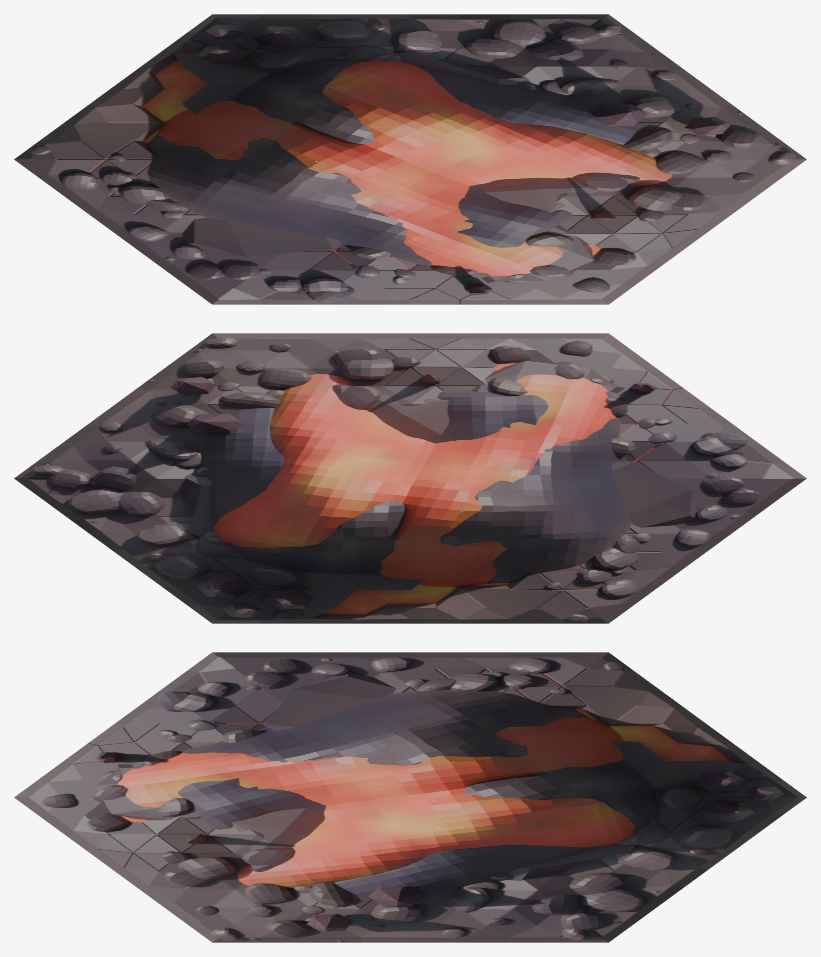
The model's file is scorchedVolcano.glb.
The picture shows the model from 3 angles, top to bottom: view 1: azimuth 30°, elevation 25°; view 2: azimuth 150°, elevation 25°; view 3: azimuth 270°, elevation 25°; orthographic projection.
Parts seen in each view (by area): view 1: Deciduousforest_flat; view 2: Deciduousforest_flat; view 3: Deciduousforest_flat.
Part boxes in pixels (x1,y1,x2,y2): Deciduousforest_flat: [14, 14, 806, 304]; Deciduousforest_flat: [14, 333, 806, 623]; Deciduousforest_flat: [14, 652, 806, 942].
Bounding box in the file's own units: 1.73 × 0 × 2.
1 material, 1 textured.
